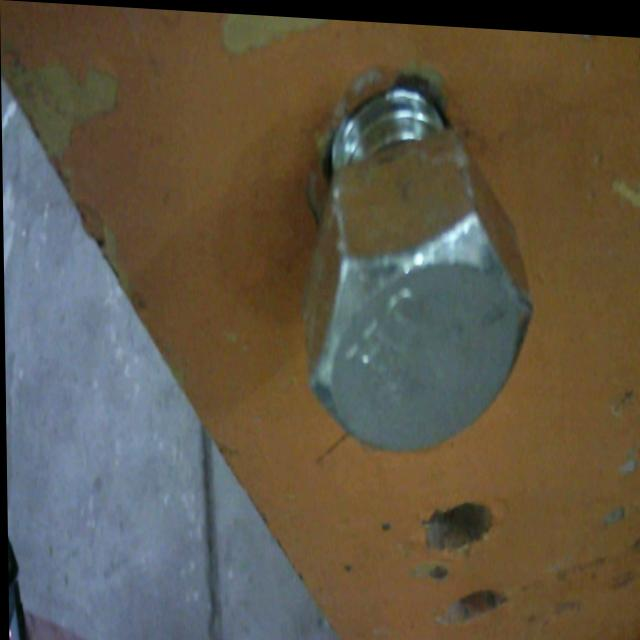Loose bolt: (295, 69, 535, 456)
Missing bolt: (422, 488, 490, 549), (440, 577, 502, 616), (463, 636, 506, 640)
